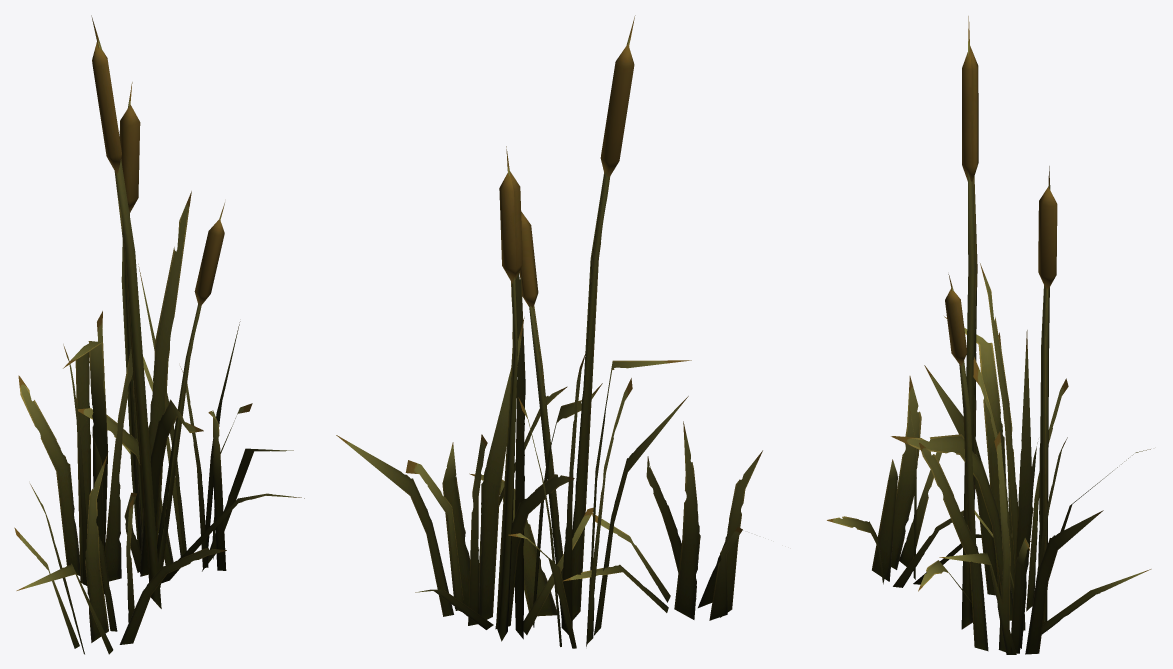
The model's file is cattails_001.fbx.
3 renders of one model, left to right at view 1: azimuth 30°, elevation 25°; view 2: azimuth 150°, elevation 25°; view 3: azimuth 270°, elevation 25°, orthographic. The views are drawn at different scales.
Visible parts, largest first — view 1: cattails_001; view 2: cattails_001; view 3: cattails_001.
Part boxes in pixels (x1,y1,x2,y2): cattails_001: [14, 15, 304, 654]; cattails_001: [336, 15, 762, 648]; cattails_001: [827, 16, 1151, 654].
Size of the model in its own units: 15570 by 26847 by 13866.
